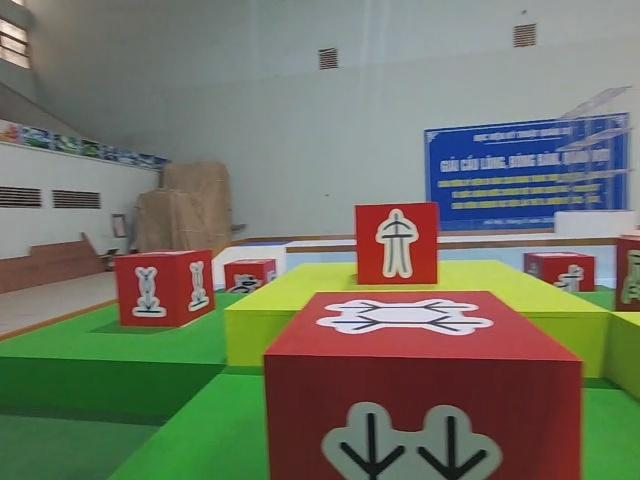R1: (223, 255, 278, 296)
R2 Fake: (354, 202, 440, 286)
R2 Real: (261, 290, 584, 480), (111, 246, 217, 330)
